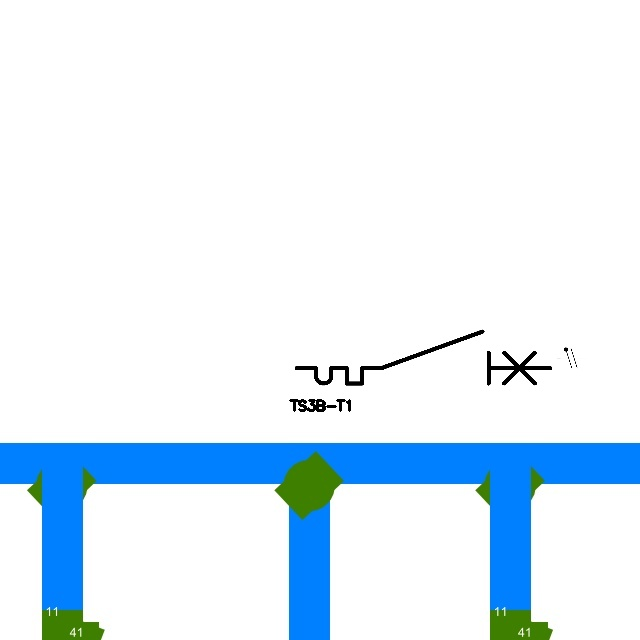interruptor_termomagnetico: (290, 325, 557, 390)
